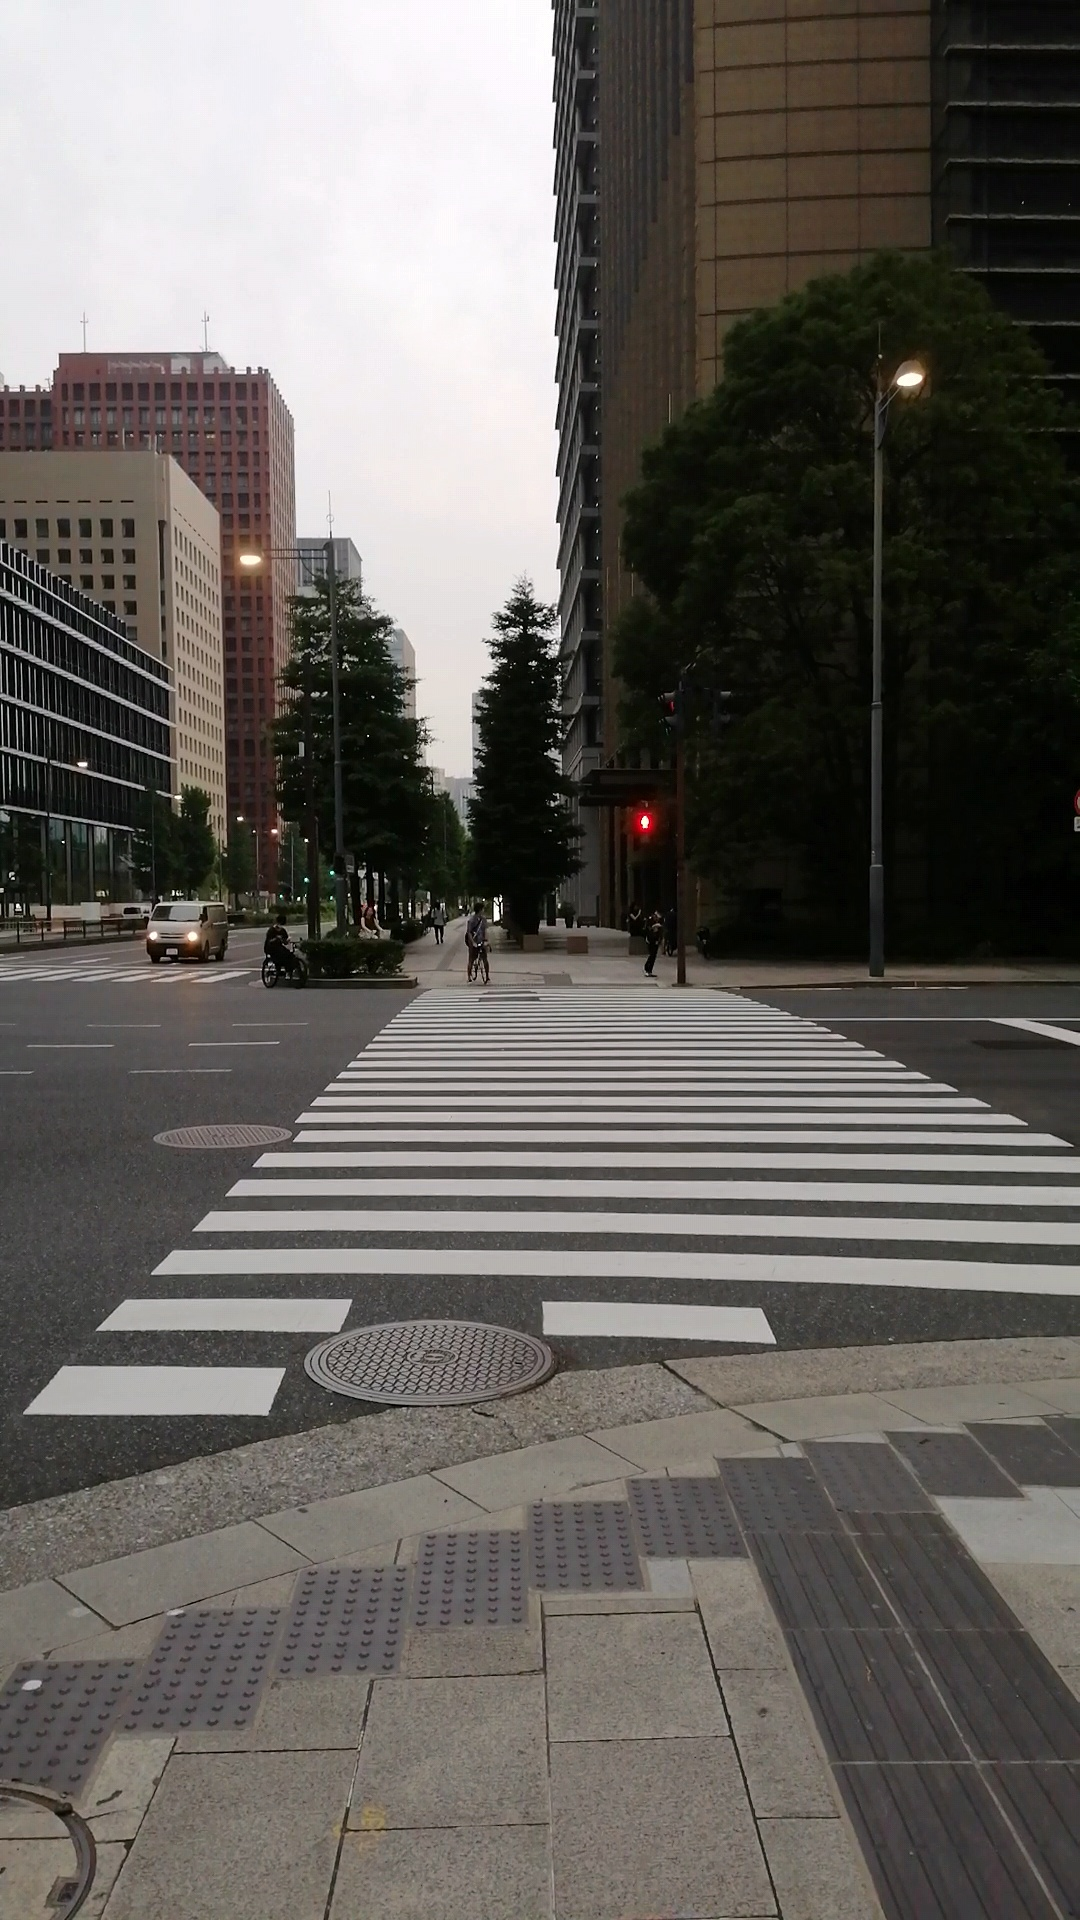red: (632, 808, 655, 852)
